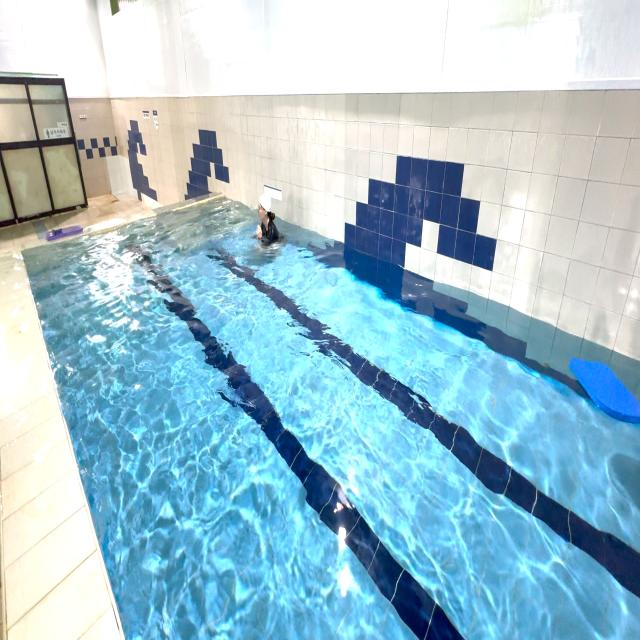Swimming: (248, 189, 282, 249)
